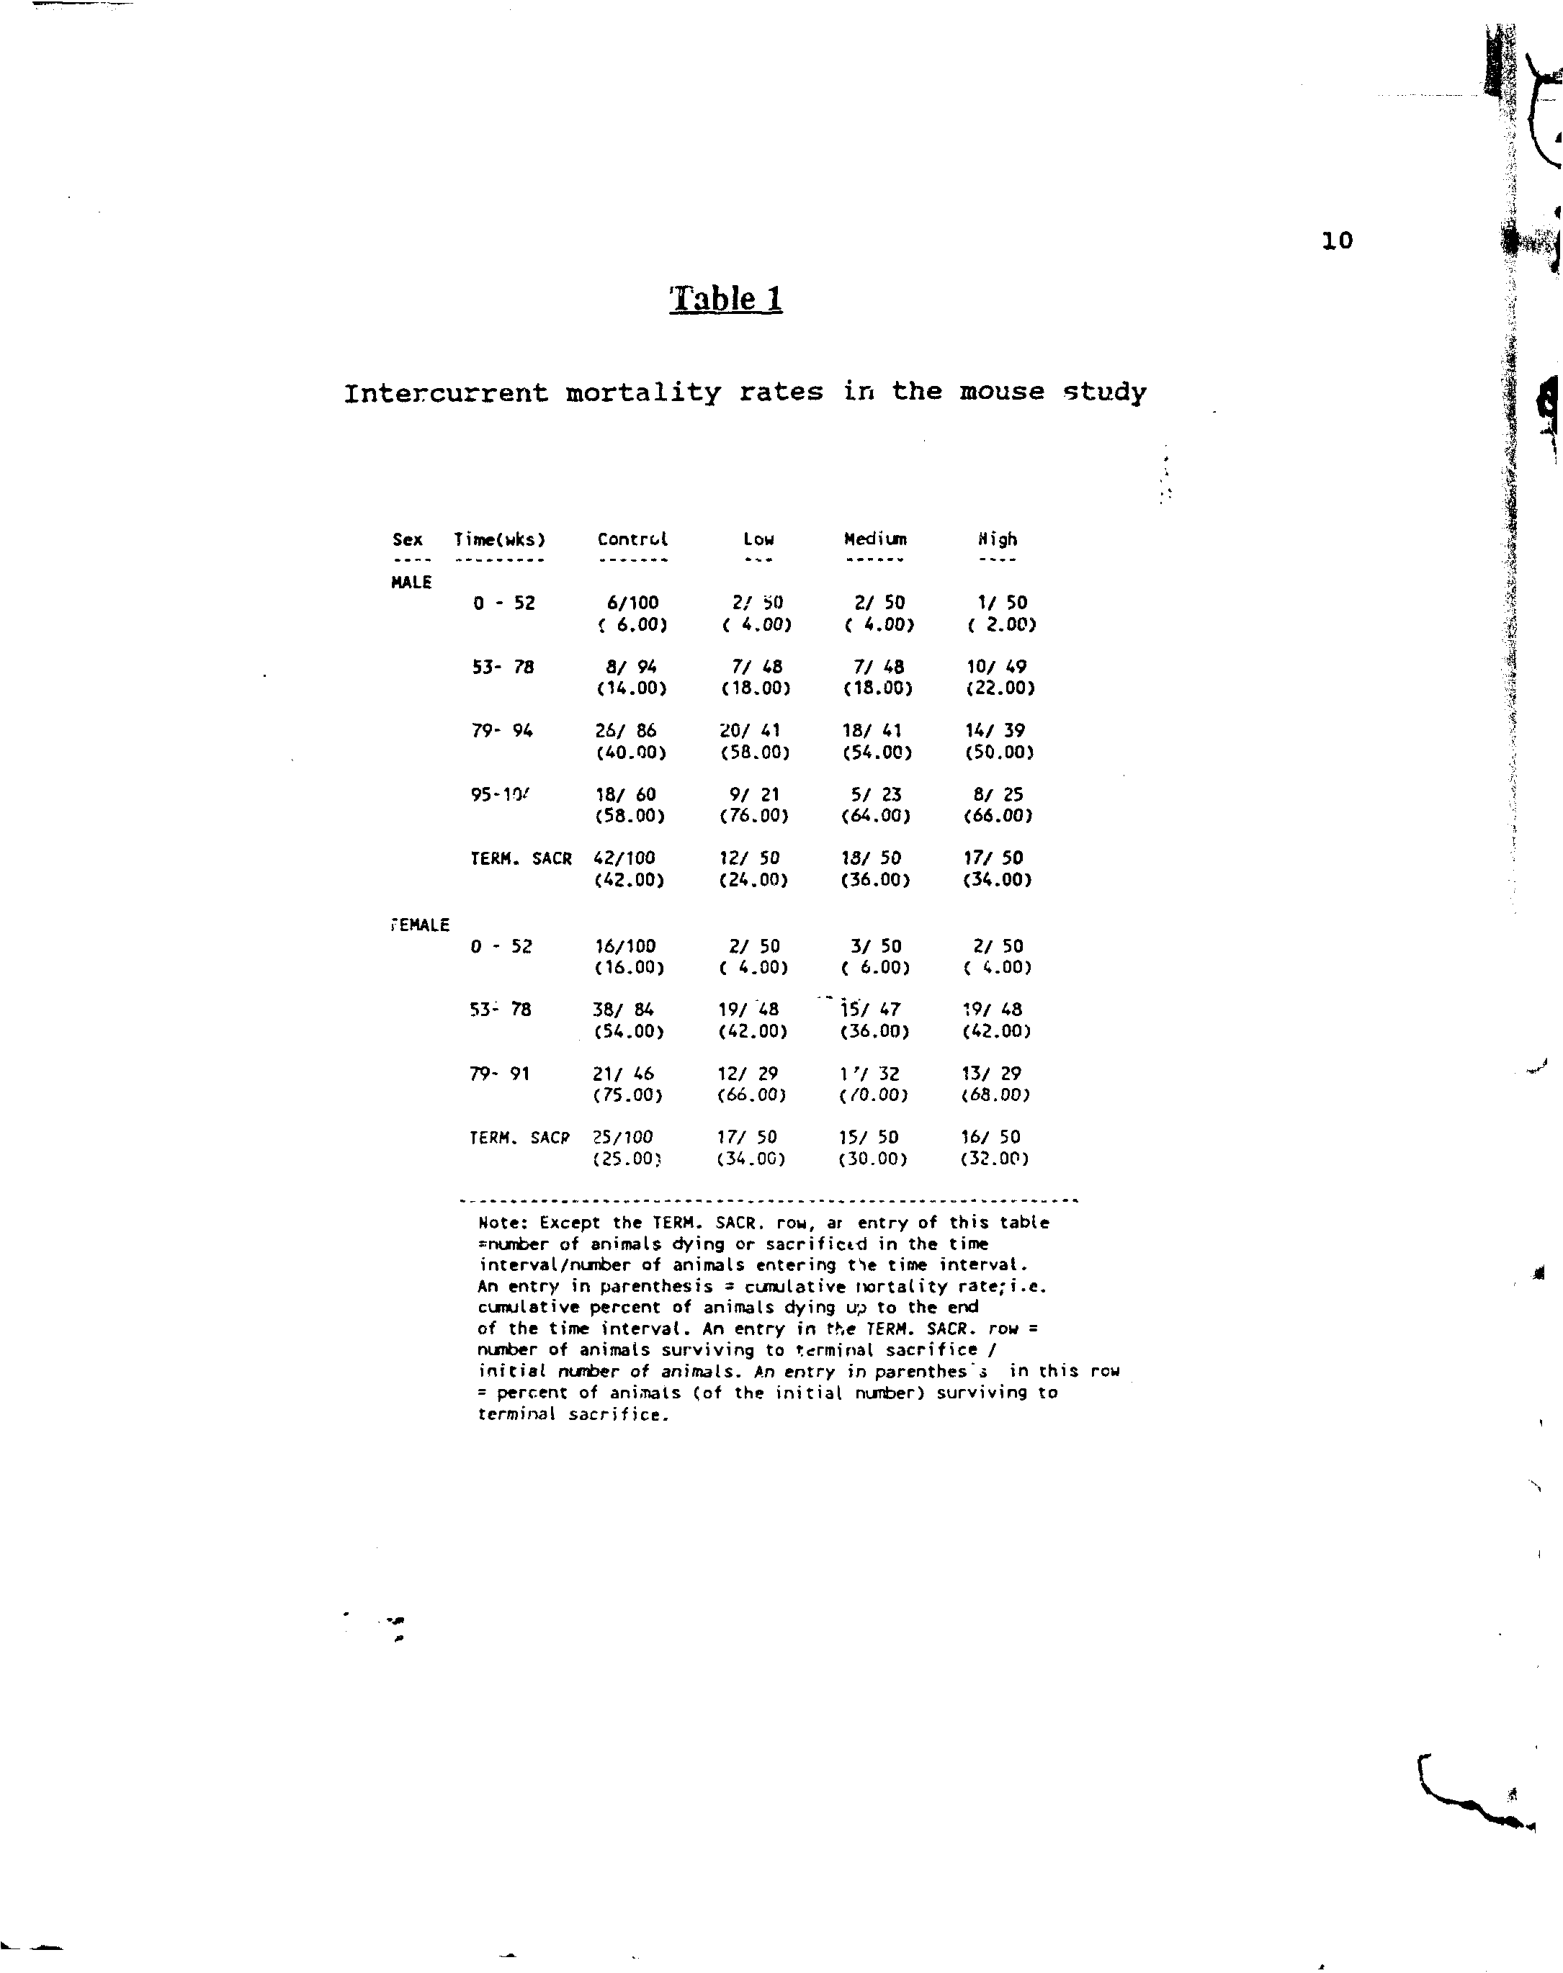nolines: (389, 525, 1043, 1174)
